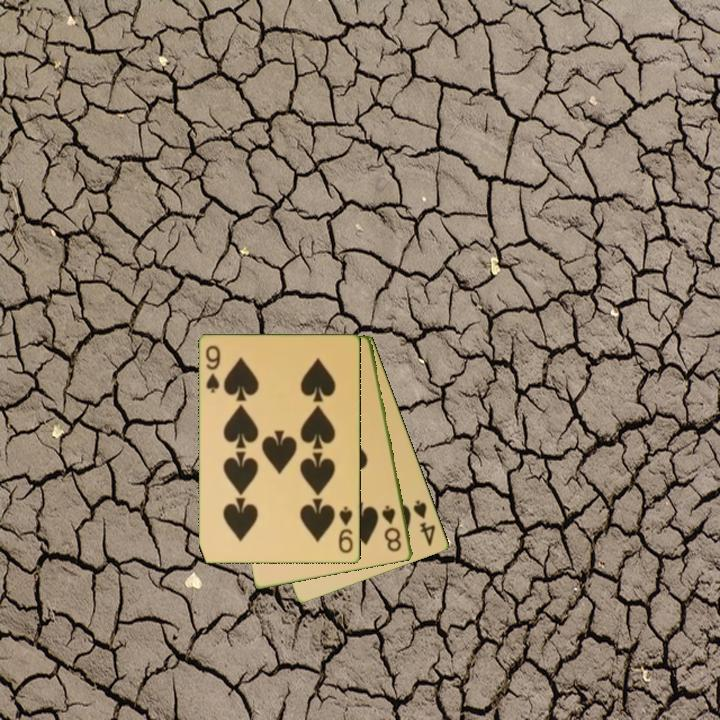4s: (410, 496, 439, 549)
8s: (378, 502, 405, 555)
9s: (202, 342, 223, 396), (336, 503, 356, 556)
